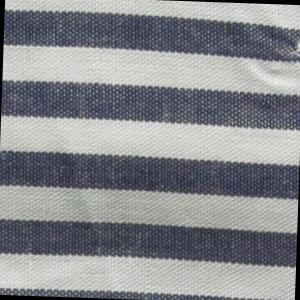Damage: (246, 23, 300, 90)
